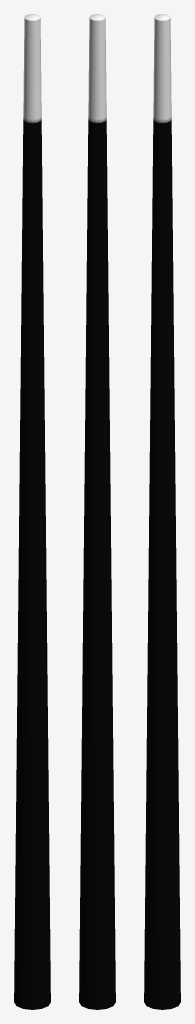
The model's file is wand.dae.
3 renders of one model, left to right at view 1: azimuth 30°, elevation 25°; view 2: azimuth 150°, elevation 25°; view 3: azimuth 330°, elevation 25°, orthographic.
Visible parts, largest first — view 1: wand; view 2: wand; view 3: wand.
Part boxes in pixels (x1,y1,x2,y2): wand: (14, 14, 50, 1009); wand: (79, 14, 115, 1009); wand: (144, 14, 180, 1009).
Bounding box in the file's own units: 0.024 × 0.024 × 0.7087.
Materials: 1 (1 with a texture image).
